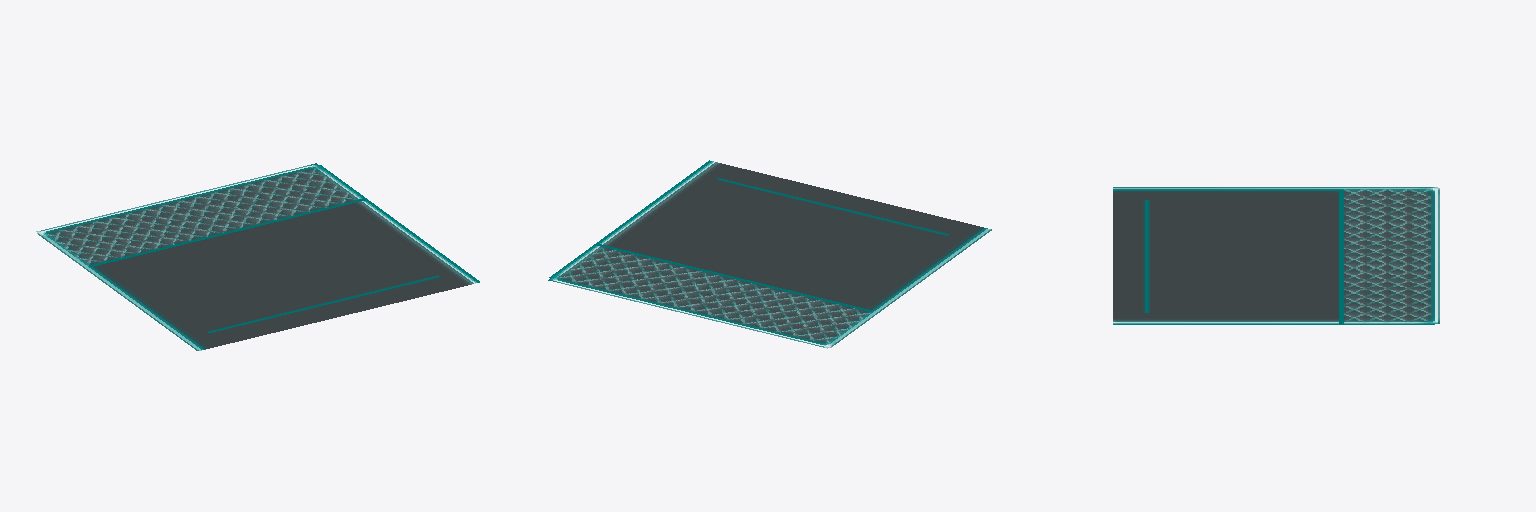
3 views of the same model, side by side, from view 1: azimuth 30°, elevation 25°; view 2: azimuth 150°, elevation 25°; view 3: azimuth 270°, elevation 25° (orthographic).
Visible parts, largest first — view 1: Plane; view 2: Plane; view 3: Plane.
Boxes of the visible parts, x1,y1,x2,y2 form: Plane: [36, 163, 479, 350]; Plane: [548, 160, 991, 348]; Plane: [1113, 187, 1439, 324].
Size of the model in its own units: 2 by 0 by 2.
1 materials, 1 textured.